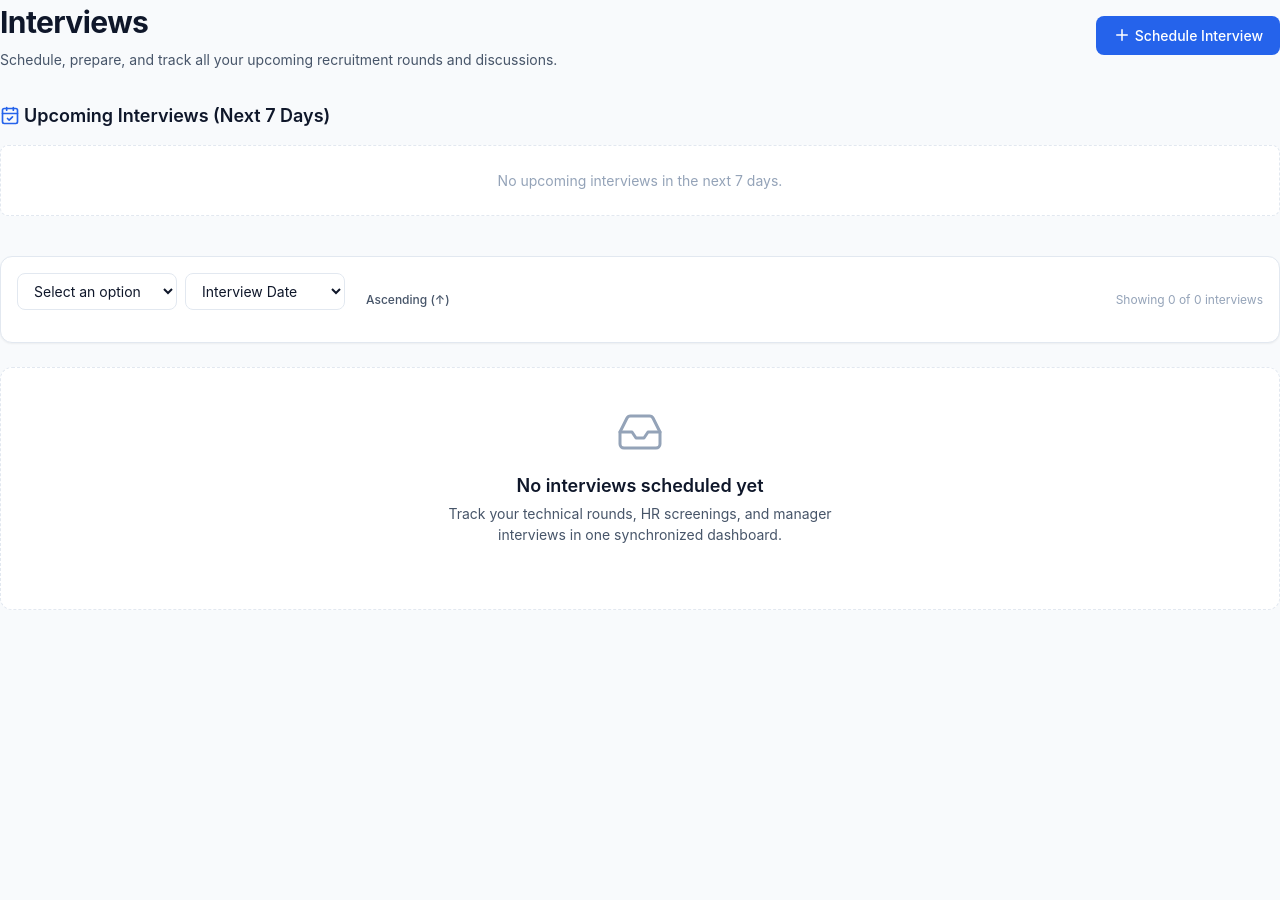
Scenario: InterviewsPage Component (Phase 6.5E) › 6. handles 409 Conflict during schedule without closing modal or losing input
This screenshot has width=1280, height=900.
Click the button with test id "schedule-interview-btn" at (1188, 35), box [1096,16,1279,54]
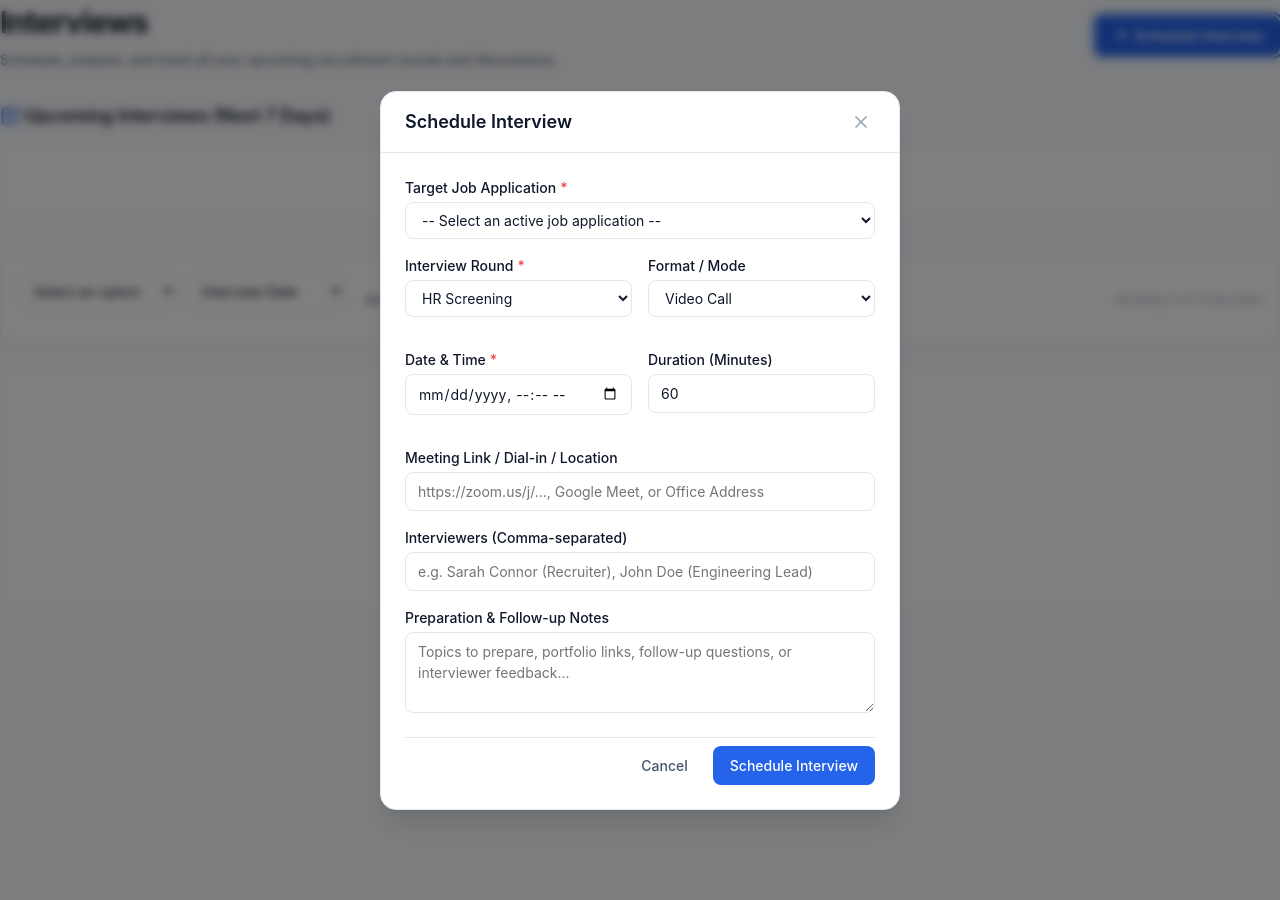
Select "Stripe — Backend Engineer" in the dropdown labelled "Target Job Application *" at (640, 220), box [405,202,875,238]
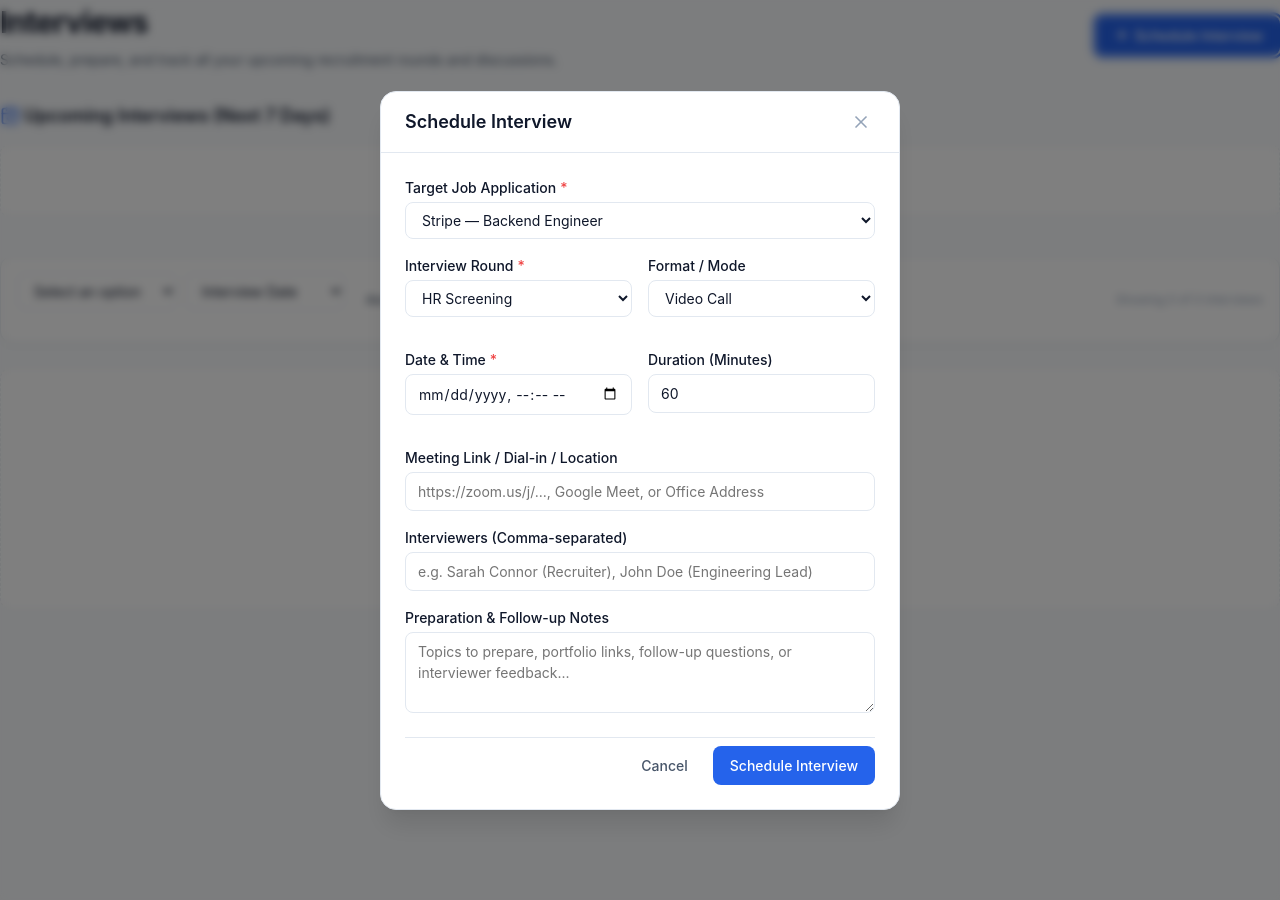
Type "2026-11-01T15:00" into the field labelled "Date & Time *" at (518, 394), box [405,374,632,414]
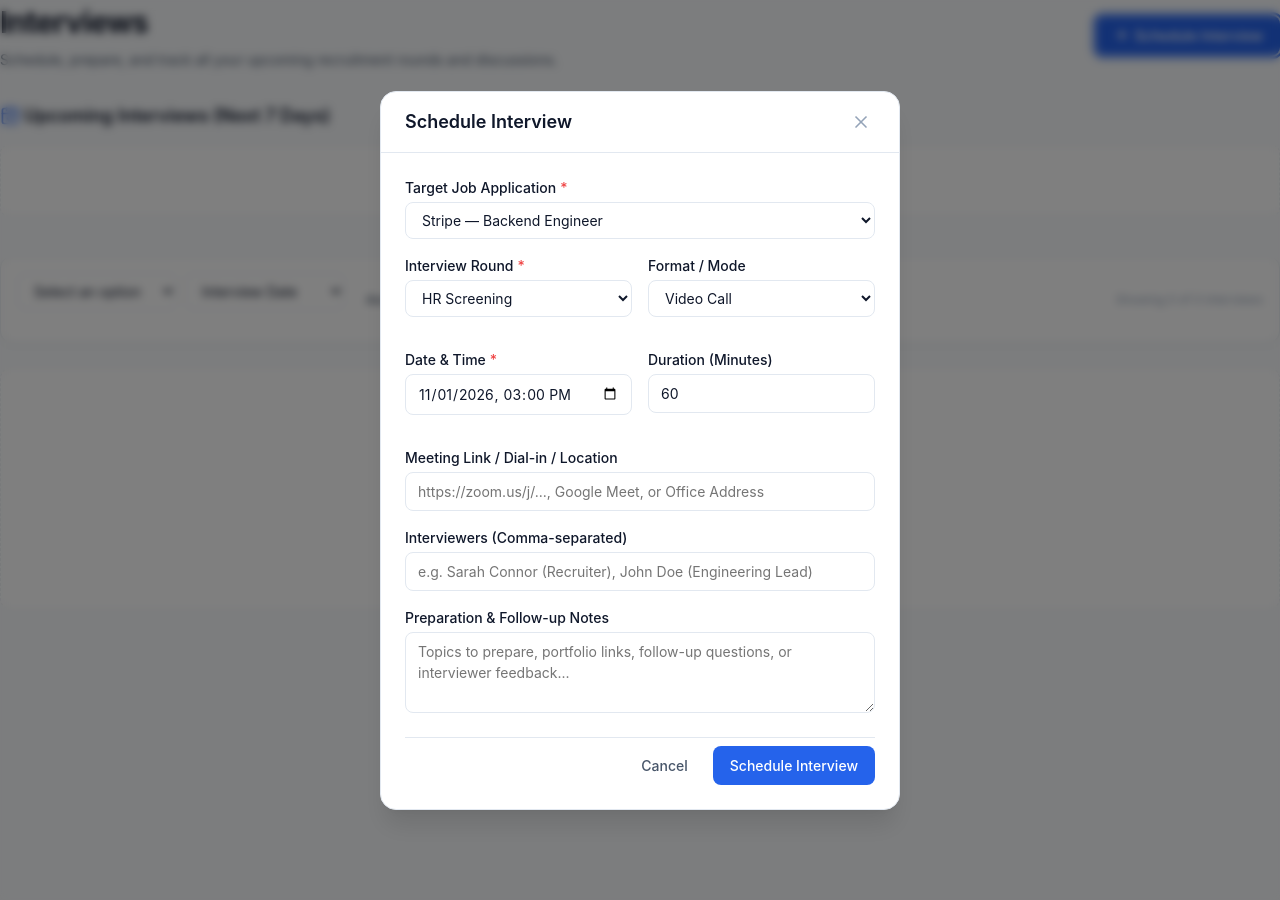
Click the button with test id "interview-submit-btn" at (794, 765), box [713,746,875,784]
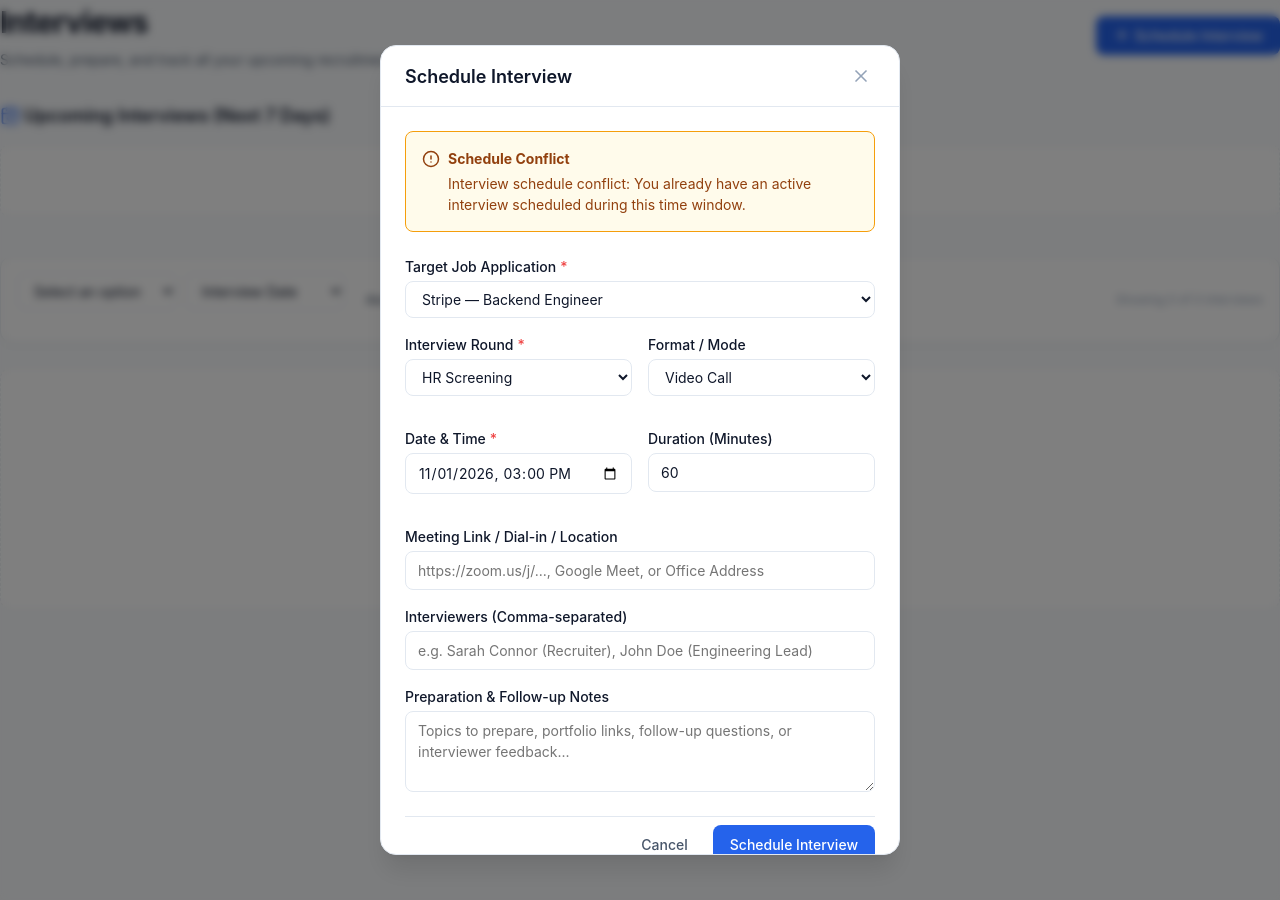
Expected: the dialog is shown, [380,45,900,855]
Expected: the message with test id "interview-form-error" is shown, [405,131,875,232]
Expected: the message with test id "interview-form-error" shows "Schedule Conflict", [448,150,570,167]
